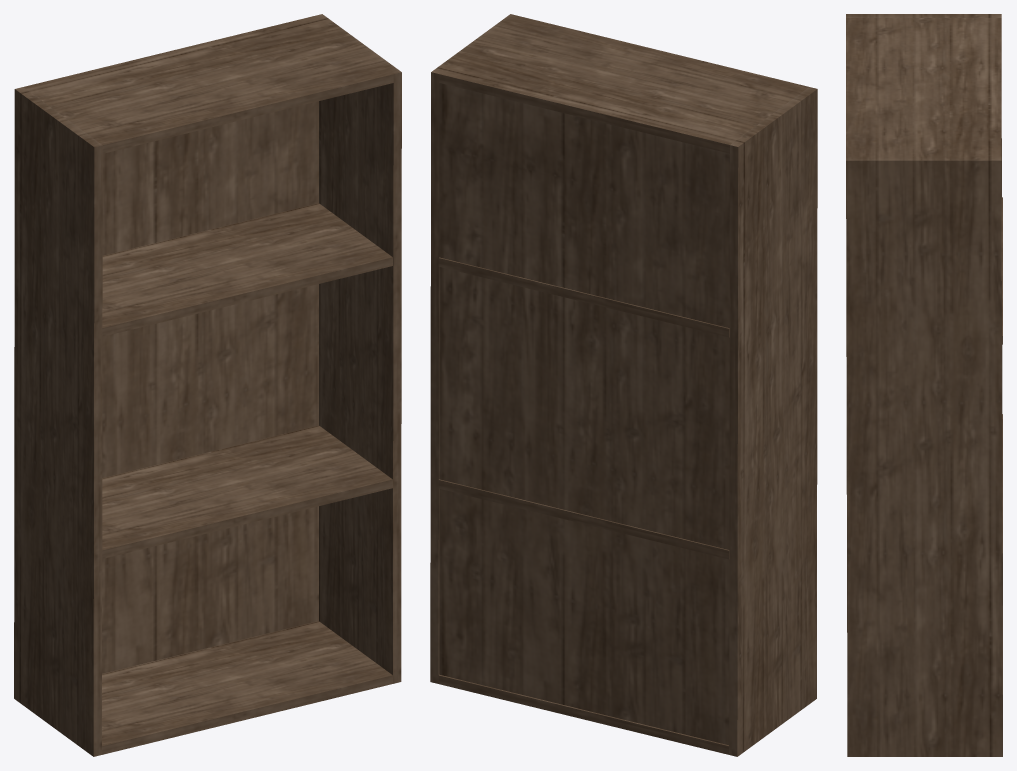
The model's file is cabin02w.fbx.
The picture shows the model from 3 angles, left to right: view 1: azimuth 30°, elevation 25°; view 2: azimuth 150°, elevation 25°; view 3: azimuth 270°, elevation 25°; orthographic projection. The views are drawn at different scales.
Parts seen in each view (by area): view 1: cabin02w; view 2: cabin02w; view 3: cabin02w.
Part boxes in pixels (x1,y1,x2,y2): cabin02w: (14,14,401,756); cabin02w: (430,14,817,756); cabin02w: (846,14,1002,756).
Bounding box in the file's own units: 73.97 × 140 × 33.45.
